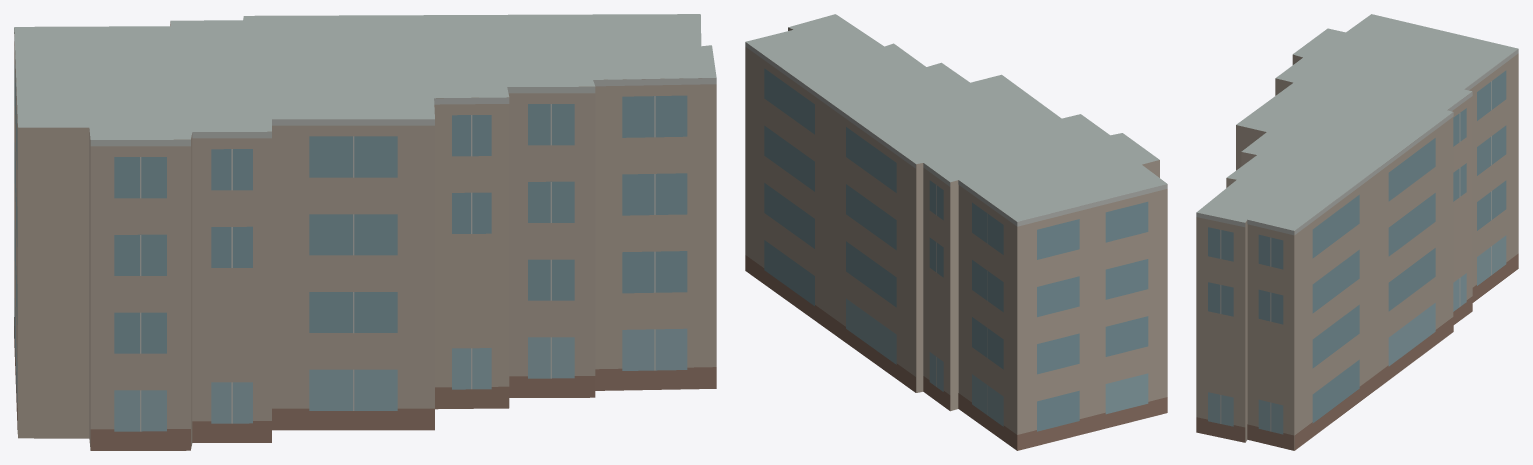
Rendered from survey-upis-32545083.glb.
The picture shows the model from 3 angles, left to right: view 1: azimuth 30°, elevation 25°; view 2: azimuth 150°, elevation 25°; view 3: azimuth 270°, elevation 25°; orthographic projection. The views are drawn at different scales.
Visible parts, largest first — view 1: survey-upis-32545083.tmp; view 2: survey-upis-32545083.tmp; view 3: survey-upis-32545083.tmp.
Part boxes in pixels (box(x1,y1,x2,y2)): survey-upis-32545083.tmp: box(14, 14, 716, 450); survey-upis-32545083.tmp: box(745, 14, 1167, 450); survey-upis-32545083.tmp: box(1196, 14, 1518, 450).
Bounding box in the file's own units: 25.07 × 11.85 × 15.74.
